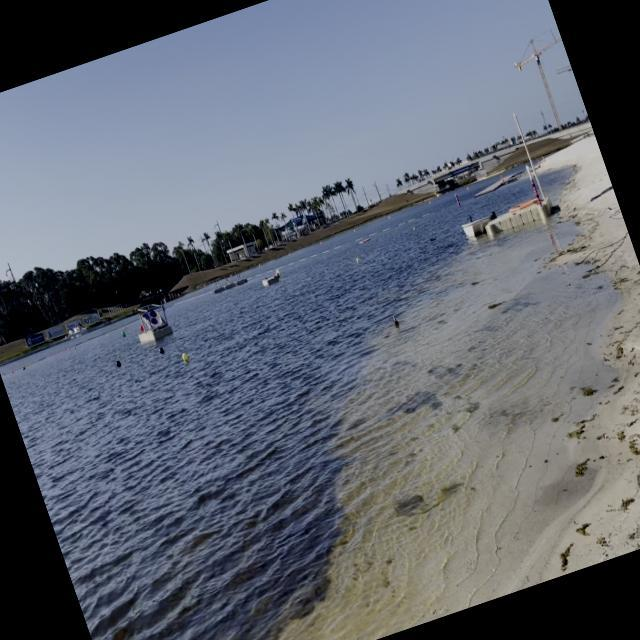buoy: (180, 350, 194, 368), (112, 356, 124, 369), (156, 343, 167, 356), (353, 254, 362, 266), (120, 330, 126, 338), (138, 323, 144, 331)
